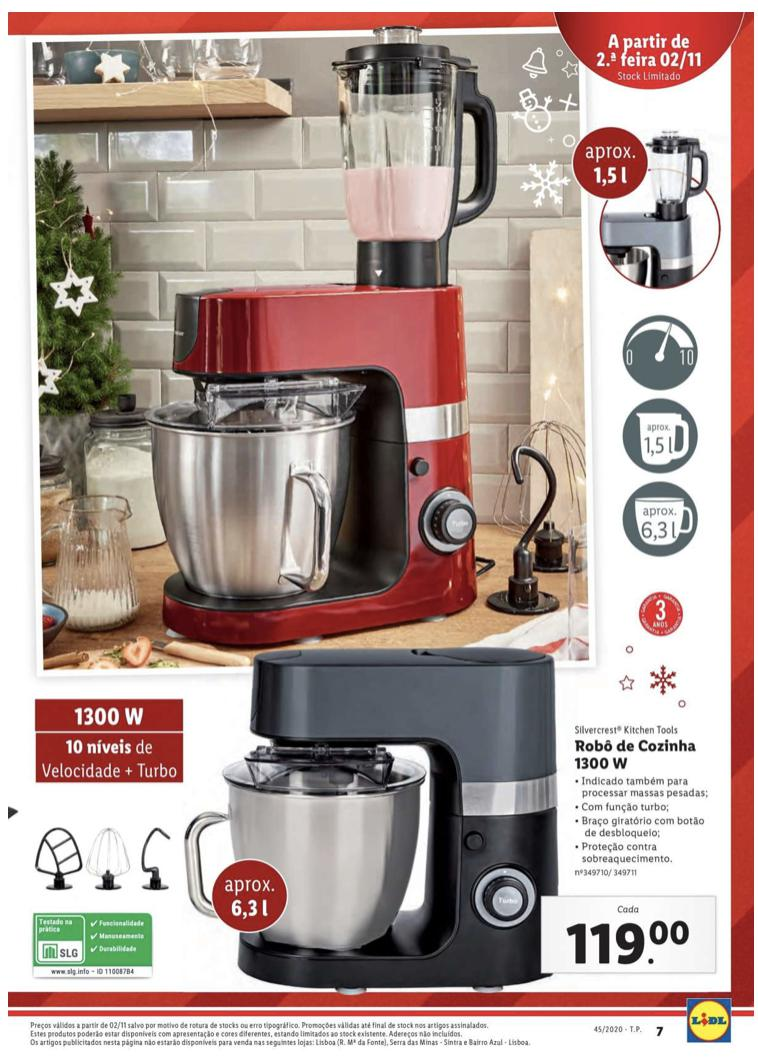name: (569, 736, 702, 774)
price: (564, 916, 694, 969)
product: (1, 646, 733, 996)
